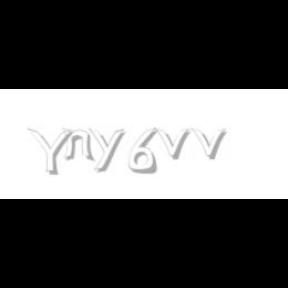6: (128, 128, 158, 176)
Y: (27, 128, 73, 176)
n: (62, 128, 96, 162)
v: (154, 128, 194, 160), (190, 128, 230, 160)
y: (89, 128, 129, 172)
